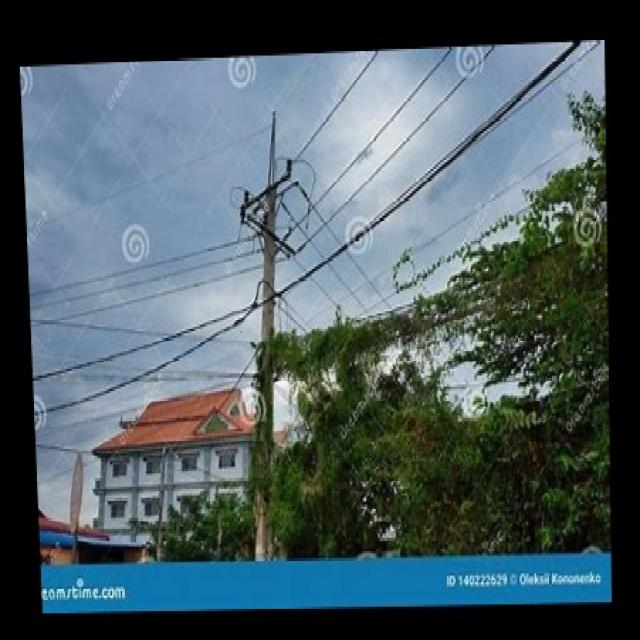critical vegetation: (269, 293, 605, 400)
